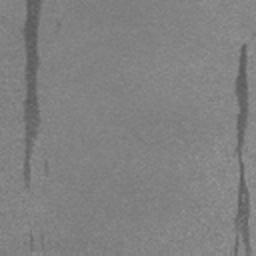Red iron sheet: (21, 0, 43, 188), (235, 160, 251, 254), (235, 44, 248, 157), (234, 241, 239, 253)
